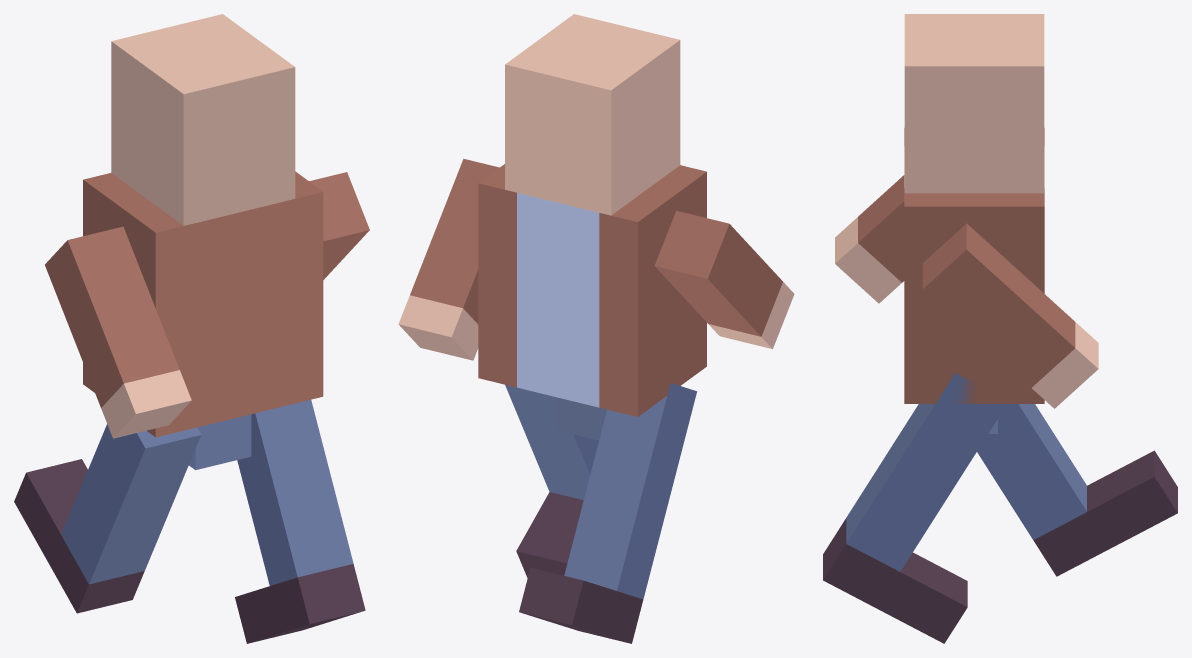
The model's file is default-person-jump.glb.
3 renders of one model, left to right at view 1: azimuth 30°, elevation 25°; view 2: azimuth 150°, elevation 25°; view 3: azimuth 270°, elevation 25°, orthographic. The views are drawn at different scales.
Parts seen in each view (by area): view 1: UNIT.001, UNIT.005, UNIT.004, UNIT.003, UNIT.002; view 2: UNIT.001, UNIT.005, UNIT.003, UNIT.002, UNIT.004; view 3: UNIT.001, UNIT.004, UNIT.005, UNIT.002, UNIT.003.
Boxes of the visible parts, bbox=[...] form: UNIT.001: bbox=[83, 14, 323, 470]; UNIT.005: bbox=[14, 424, 200, 613]; UNIT.004: bbox=[235, 399, 365, 643]; UNIT.003: bbox=[45, 226, 191, 438]; UNIT.002: bbox=[309, 172, 369, 279]; UNIT.001: bbox=[478, 14, 706, 440]; UNIT.005: bbox=[519, 383, 696, 643]; UNIT.003: bbox=[654, 210, 794, 349]; UNIT.002: bbox=[398, 158, 499, 360]; UNIT.004: bbox=[505, 384, 598, 577]; UNIT.001: bbox=[904, 14, 1044, 433]; UNIT.004: bbox=[823, 373, 1006, 643]; UNIT.005: bbox=[977, 404, 1177, 576]; UNIT.002: bbox=[922, 223, 1098, 408]; UNIT.003: bbox=[835, 175, 904, 303].
Size of the model in its own units: 0.7001 by 1.4 by 0.7982.
Materials: 1 (1 with a texture image).
